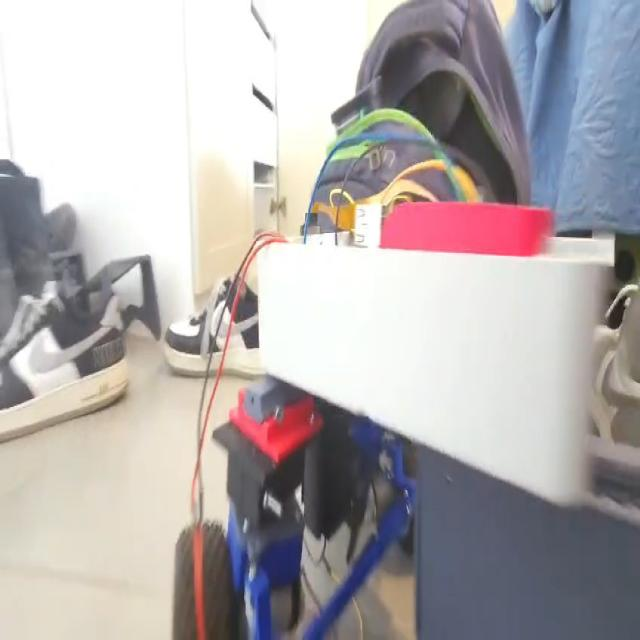Robot: (172, 188, 640, 638)
